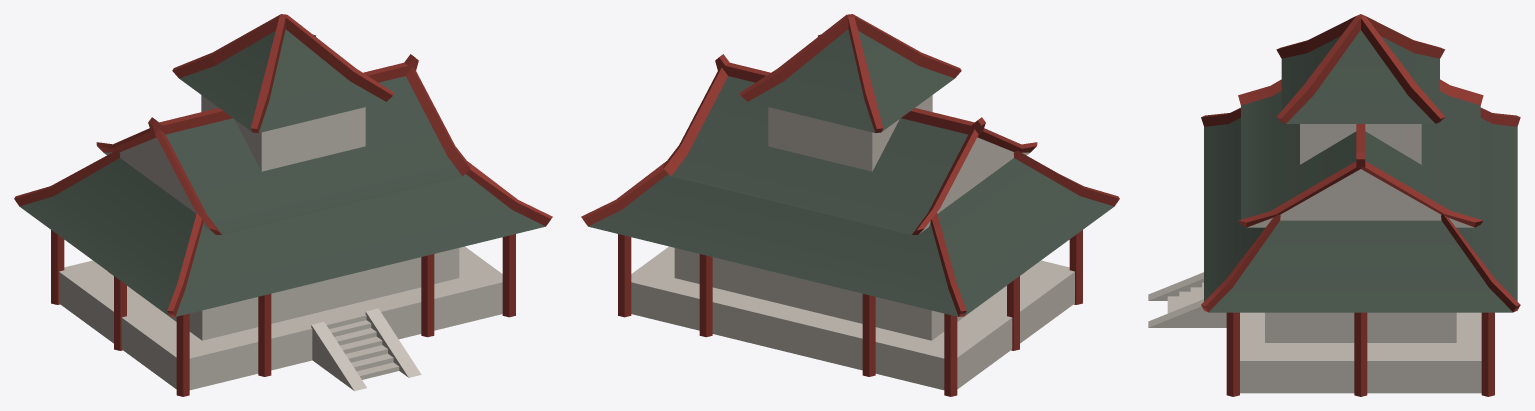
The model's file is oriental-building.fbx.
3 views of the same model, side by side, from view 1: azimuth 30°, elevation 25°; view 2: azimuth 150°, elevation 25°; view 3: azimuth 270°, elevation 25° (orthographic).
Parts seen in each view (by area): view 1: pPyramid2; view 2: pPyramid2; view 3: pPyramid2.
Part boxes in pixels (x1,y1,x2,y2): pPyramid2: [14, 14, 552, 396]; pPyramid2: [581, 14, 1119, 396]; pPyramid2: [1148, 14, 1520, 396].
Size of the model in its own units: 14.19 by 10.28 by 11.69.
